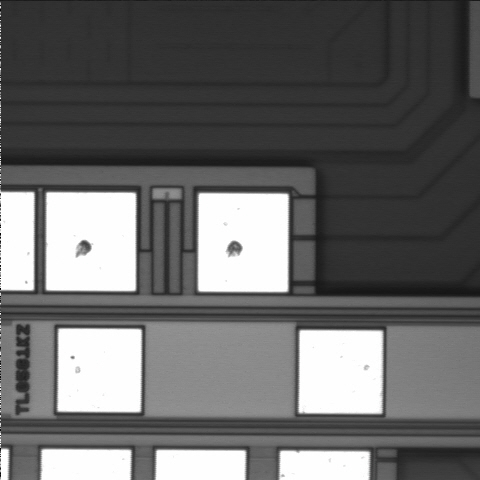pad: (46, 192, 136, 291), (198, 193, 288, 292), (299, 330, 383, 414), (58, 329, 141, 412)
